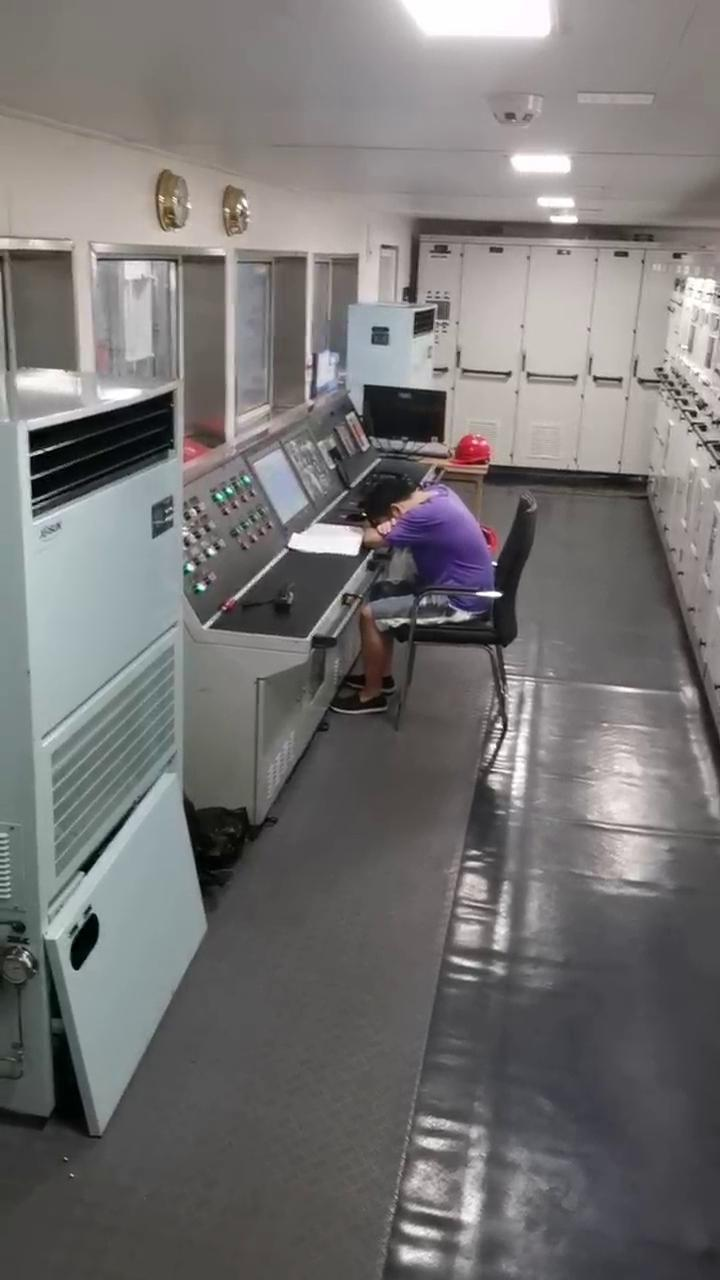sleep: (343, 470, 507, 637)
